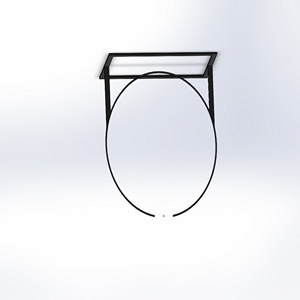circle: (96, 48, 220, 220)
